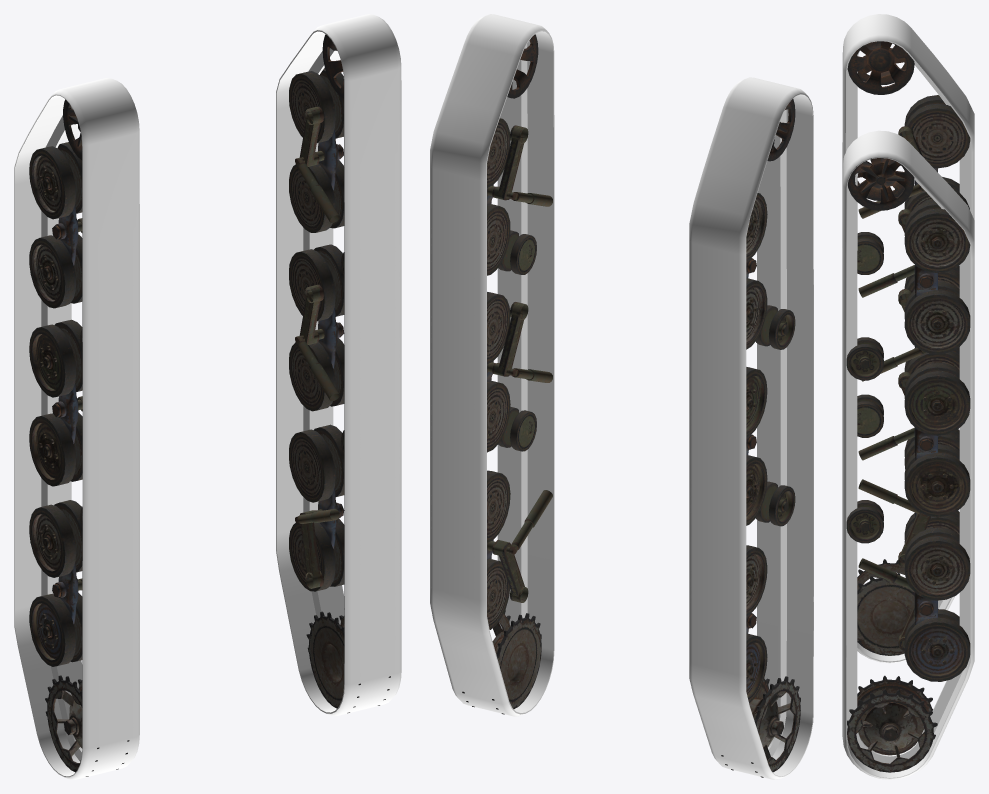
Rendered from Chassis_01.glb.
3 views of the same model, side by side, from view 1: azimuth 30°, elevation 25°; view 2: azimuth 150°, elevation 25°; view 3: azimuth 270°, elevation 25° (orthographic). The views are drawn at different scales.
Parts seen in each view (by area): view 1: set_0_group_0, set_1_group_0, set_3_group_0, set_2_group_0; view 2: set_0_group_0, set_1_group_0, set_3_group_0, set_2_group_0; view 3: set_3_group_0, set_1_group_0, set_2_group_0, set_0_group_0.
Boxes of the visible parts, <box> form: set_0_group_0: <box>14,78,139,779</box>; set_1_group_0: <box>276,14,401,715</box>; set_3_group_0: <box>289,34,390,713</box>; set_2_group_0: <box>29,99,129,776</box>; set_0_group_0: <box>689,77,813,779</box>; set_1_group_0: <box>430,14,554,716</box>; set_3_group_0: <box>462,34,552,714</box>; set_2_group_0: <box>721,99,800,777</box>; set_3_group_0: <box>846,158,970,772</box>; set_1_group_0: <box>842,130,974,779</box>; set_2_group_0: <box>847,41,970,655</box>; set_0_group_0: <box>842,14,974,663</box>.
Bounding box in the file's own units: 2.92 × 6.03 × 1.15.
4 materials, 2 textured.
